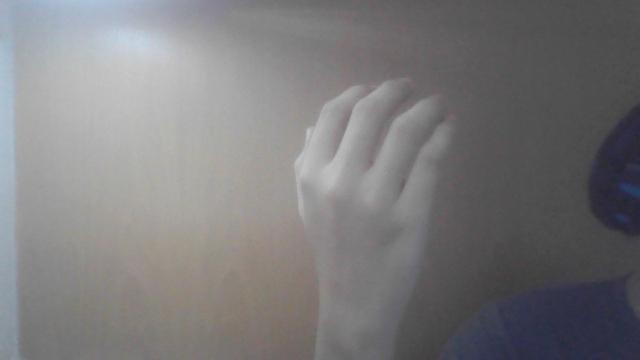backword: (292, 76, 456, 358)
